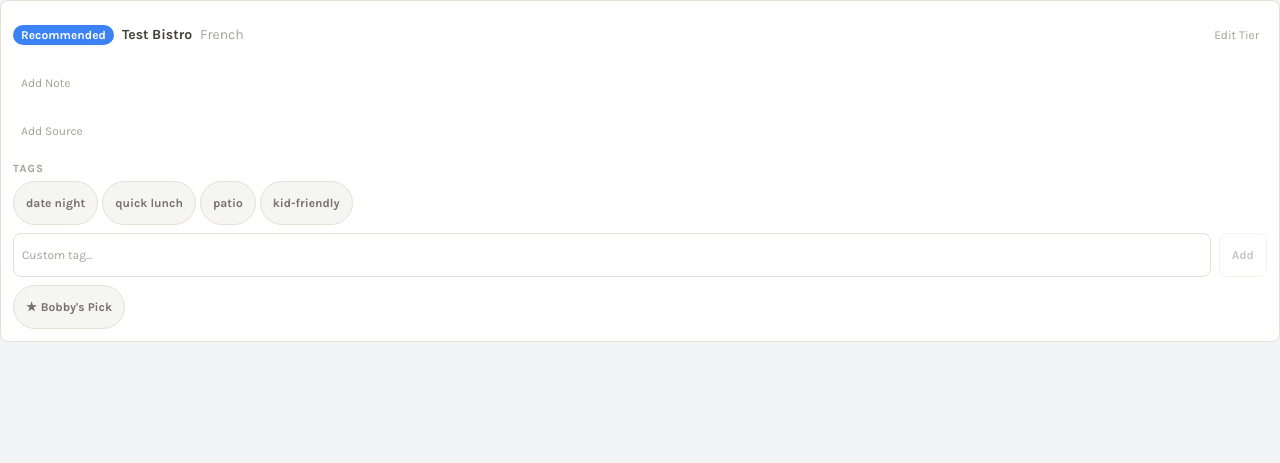
Test case: SessionRestaurantCard — Add Note flow (AC 2, 3, 8, 11) › typing in textarea enables "Save Note" button
Click the button with aria-label "add note for test bistro" at (46, 83), box [13,61,78,105]
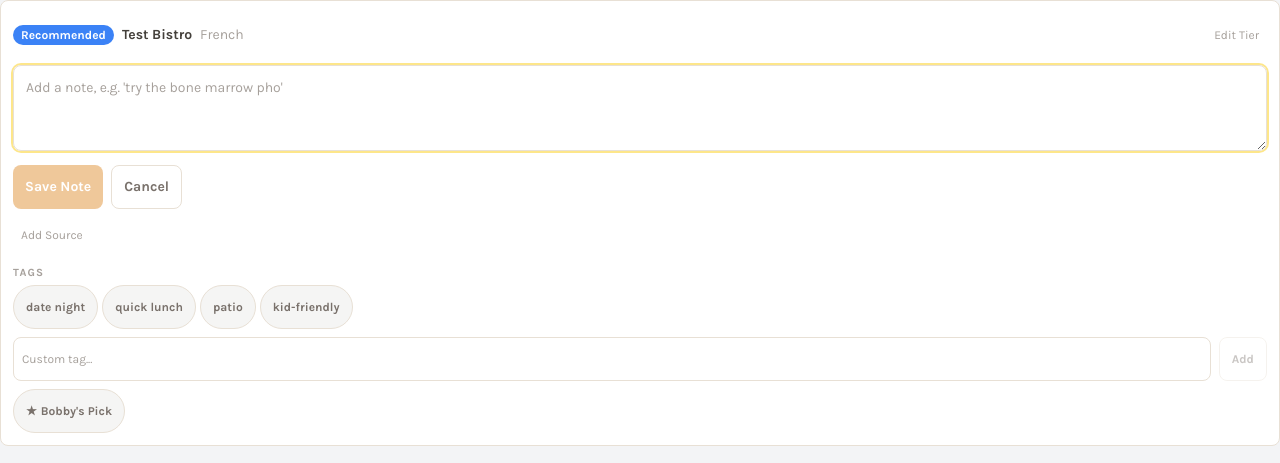
Type "try the bone marrow pho" into the text box with test id "note-textarea" at (640, 108), box [13,65,1267,151]
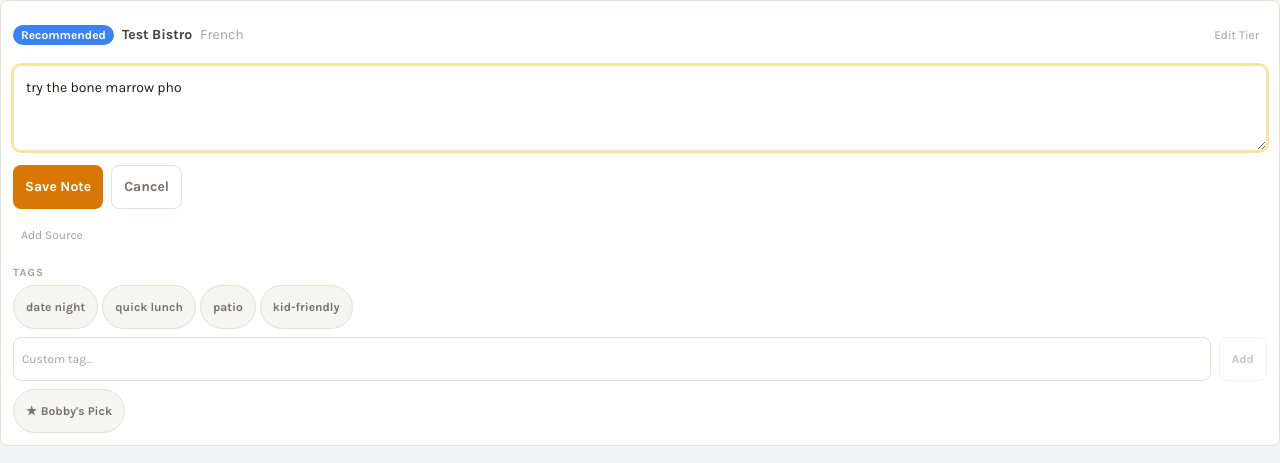
Expected: the button with test id "save-note-btn" is enabled, [13,165,103,209]
